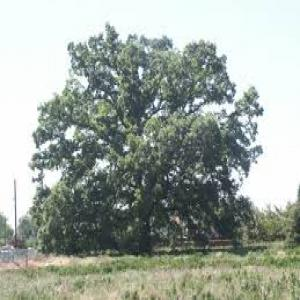Tree: (24, 18, 269, 256)
